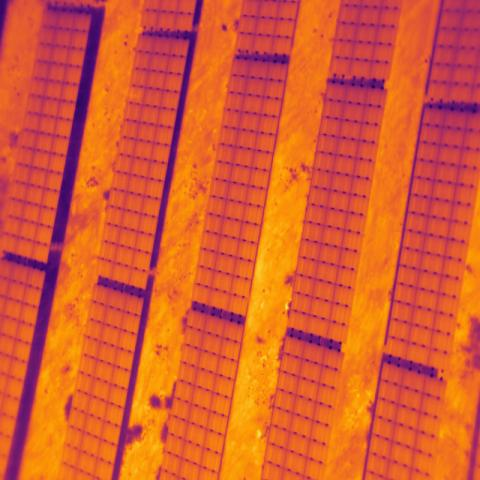fault: (128, 85, 142, 104)
